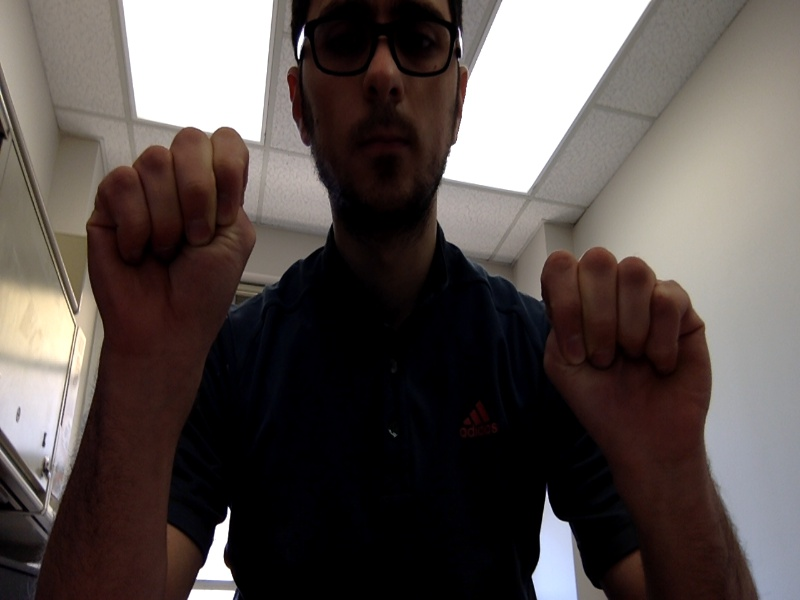0-hand: (90, 127, 255, 349), (543, 246, 712, 453)
